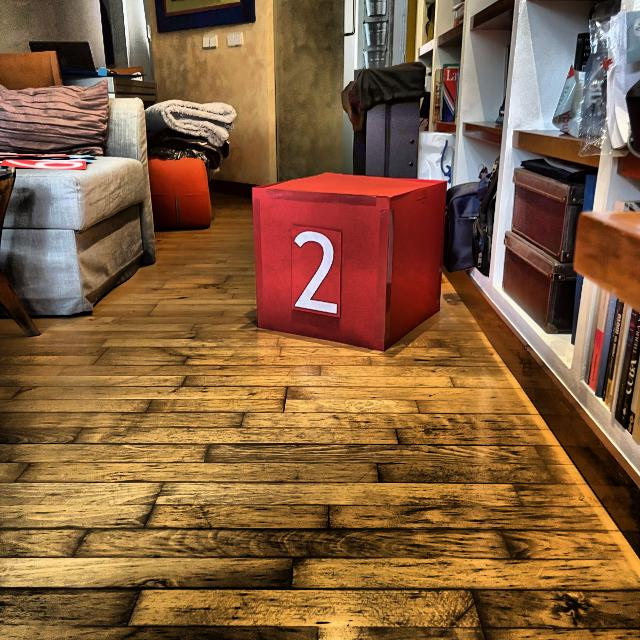red box: (252, 172, 444, 351)
two: (294, 228, 340, 316)
